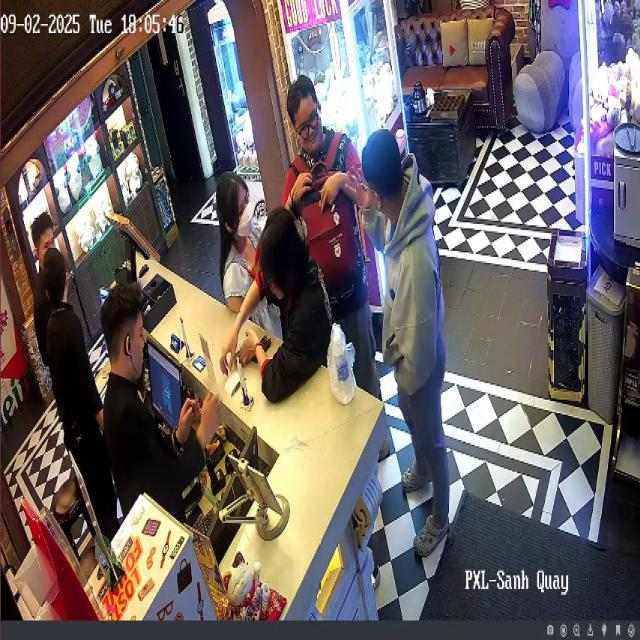khach: (362, 116, 466, 554), (288, 52, 386, 467), (254, 177, 346, 414), (200, 147, 274, 359)
nhan vien: (97, 270, 226, 560), (40, 231, 107, 477), (22, 192, 66, 441)
